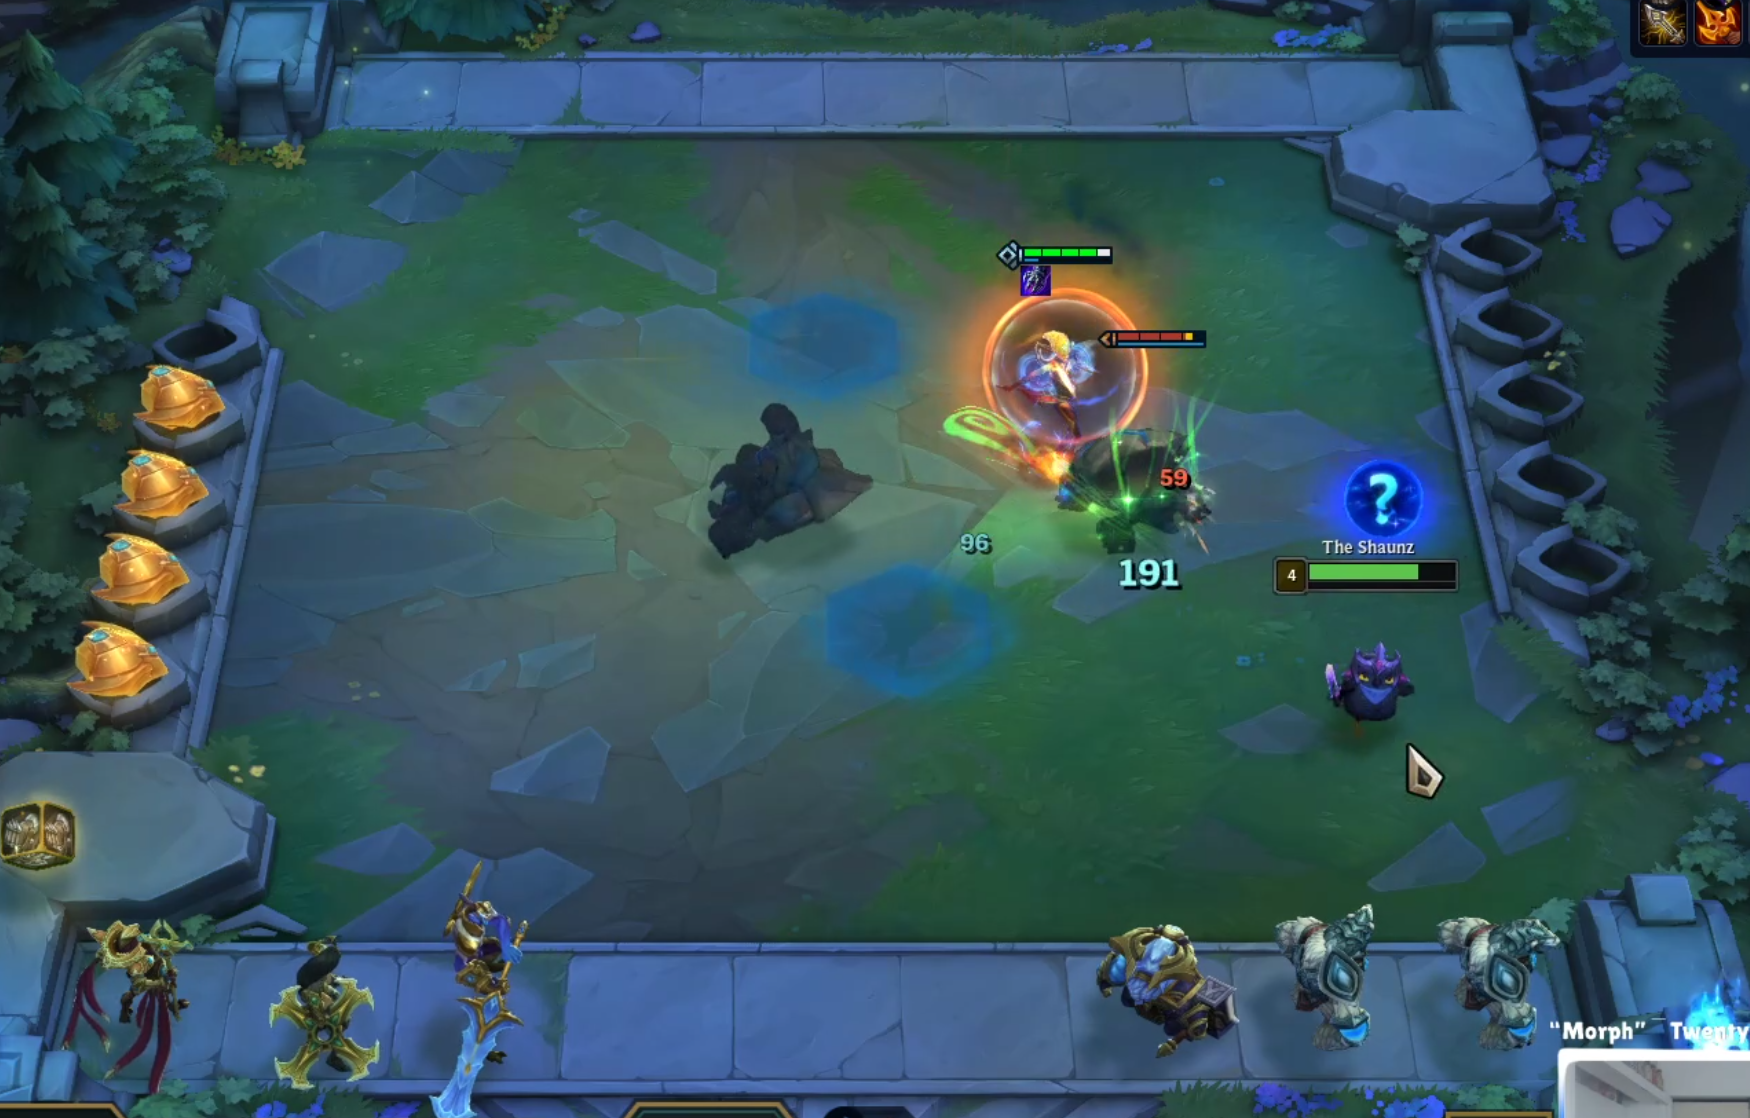blue orb: (1335, 456, 1430, 552)
